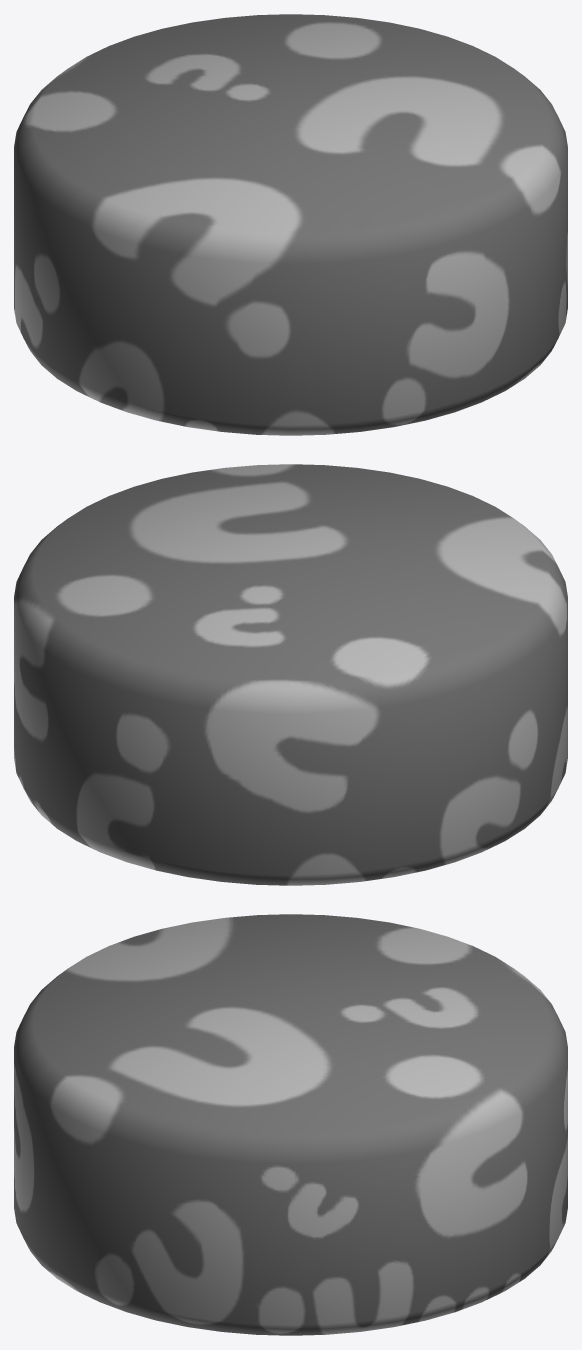
The picture shows the model from 3 angles, top to bottom: view 1: azimuth 30°, elevation 25°; view 2: azimuth 150°, elevation 25°; view 3: azimuth 270°, elevation 25°; orthographic projection.
Parts seen in each view (by area): view 1: cylinder_inactive; view 2: cylinder_inactive; view 3: cylinder_inactive.
Part boxes in pixels (x1=…): cylinder_inactive: x1=14, y1=14, x2=567, y2=435; cylinder_inactive: x1=14, y1=464, x2=567, y2=885; cylinder_inactive: x1=14, y1=914, x2=567, y2=1335.
Bounding box in the file's own units: 70.68 × 31.33 × 70.68.
